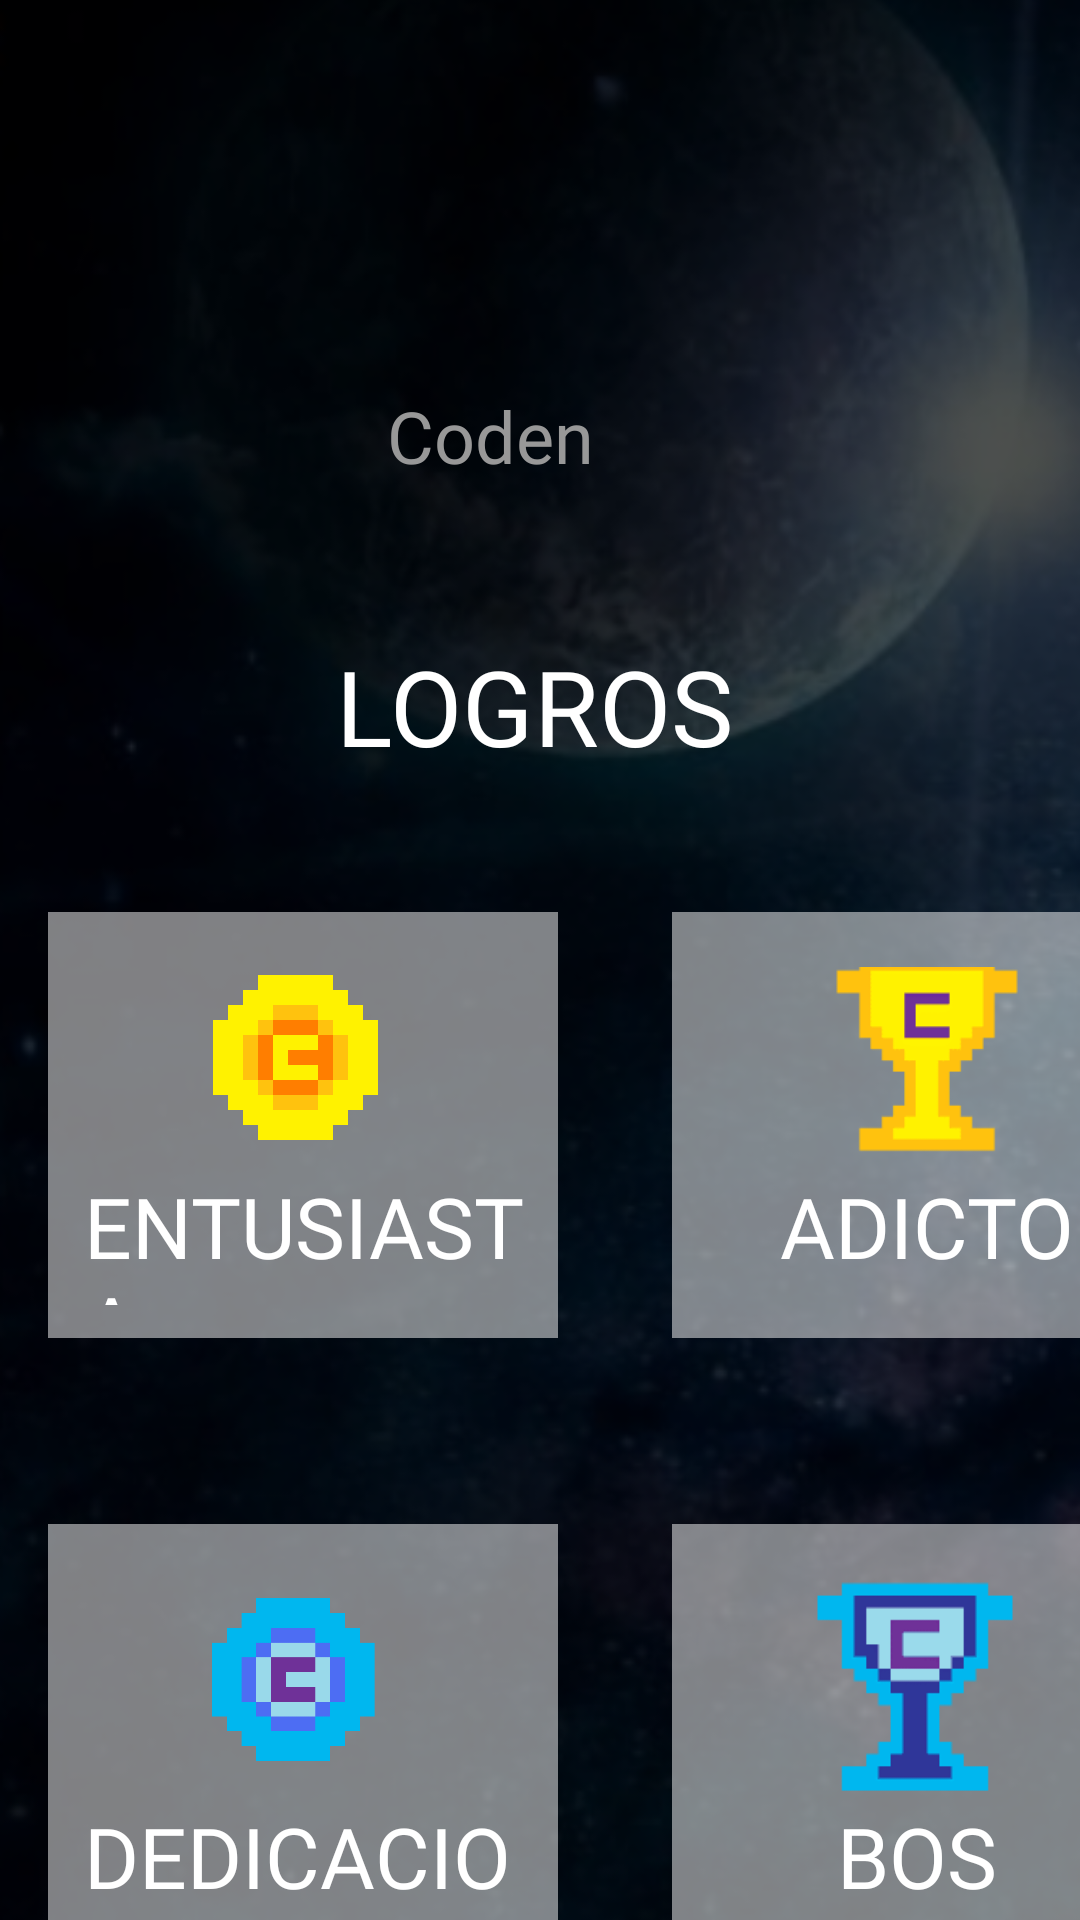

Where icons sit on this 1080×1920 app screen, as (x1, y1, x2, y2):
monedazul: (212, 1598, 375, 1761)
trofeoamarillo: (836, 967, 1018, 1151)
trofeoazul: (817, 1582, 1013, 1791)
